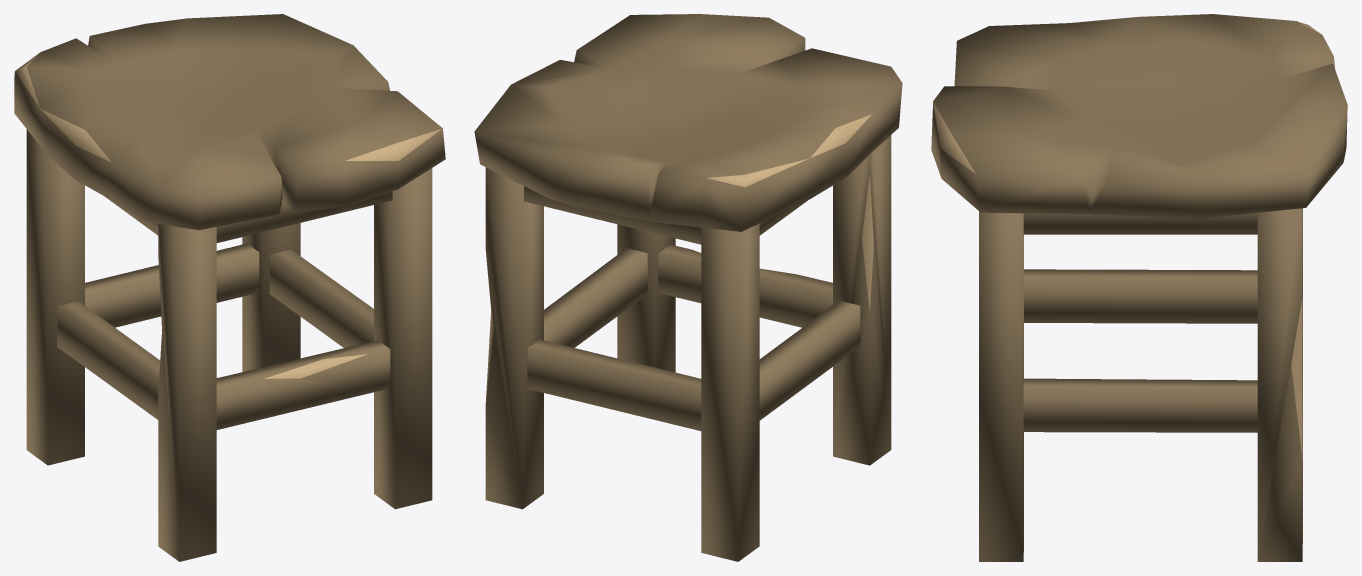
The model's file is rpgpp_ag_stool_01.fbx.
3 renders of one model, left to right at view 1: azimuth 30°, elevation 25°; view 2: azimuth 150°, elevation 25°; view 3: azimuth 270°, elevation 25°, orthographic. The views are drawn at different scales.
Visible parts, largest first — view 1: rpgpp_ag_stool_01; view 2: rpgpp_ag_stool_01; view 3: rpgpp_ag_stool_01.
Boxes of the visible parts, x1=… form: rpgpp_ag_stool_01: x1=14, y1=14, x2=445, y2=561; rpgpp_ag_stool_01: x1=474, y1=14, x2=902, y2=561; rpgpp_ag_stool_01: x1=931, y1=14, x2=1347, y2=561.
Bounding box in the file's own units: 0.3461 × 0.4136 × 0.3818.
